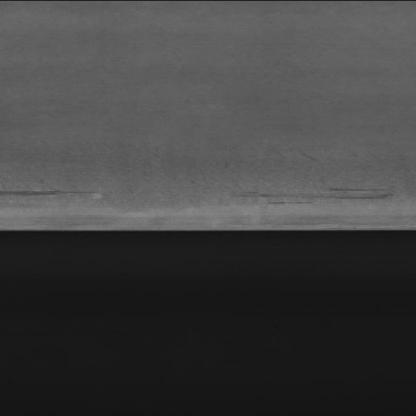silk_spot: (36, 148, 346, 178)
water_spot: (233, 183, 394, 208), (1, 184, 105, 203)
